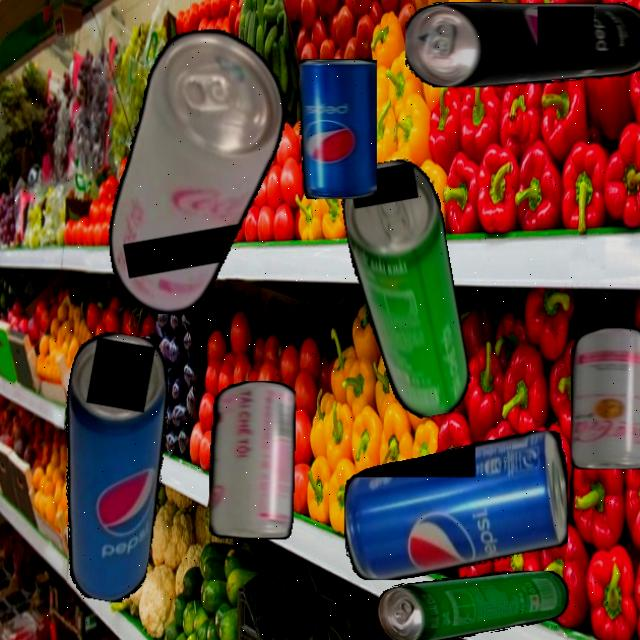debris: (75, 18, 315, 322), (33, 327, 186, 607), (336, 154, 476, 424), (343, 430, 568, 580), (405, 1, 640, 87), (208, 381, 296, 539), (378, 570, 569, 640), (300, 58, 377, 199), (570, 327, 640, 469)
